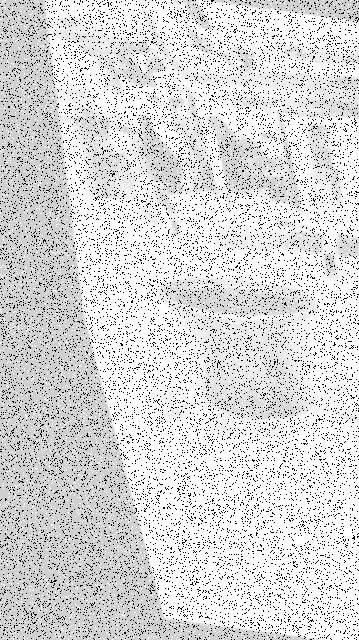pot: (157, 274, 316, 419)
